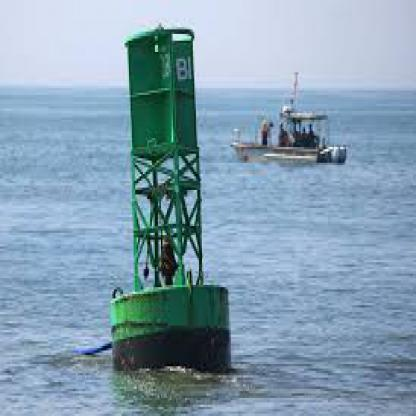buoy: (96, 11, 242, 387)
